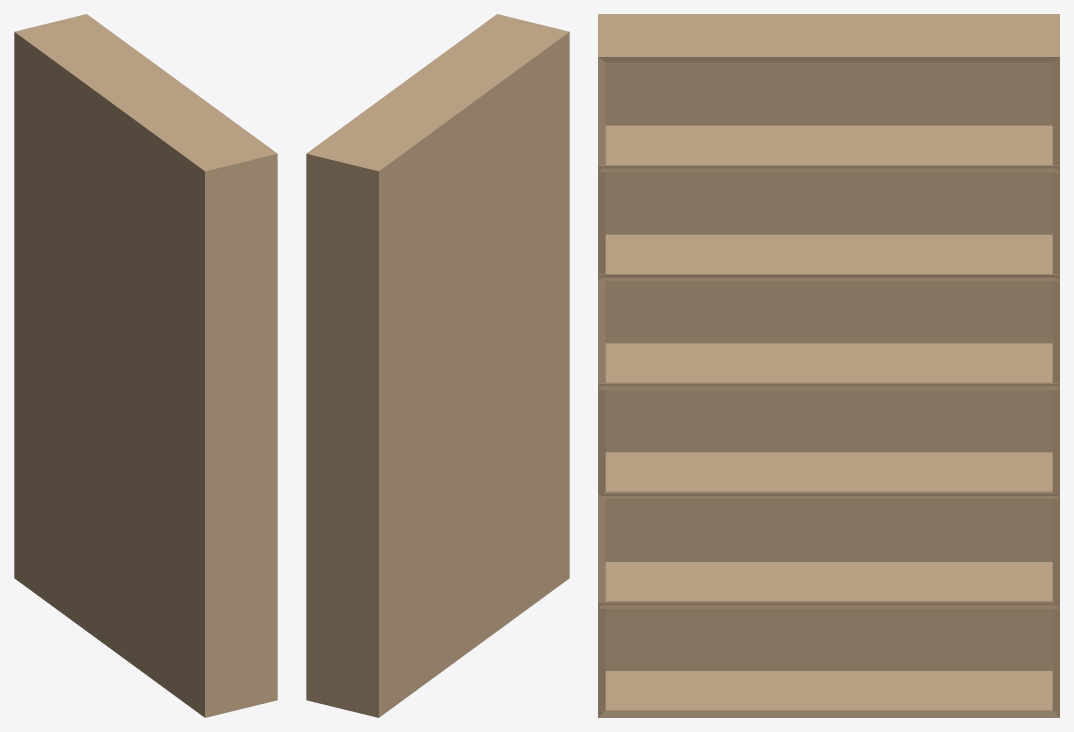
File: bookshelf.glb
3 views of the same model, side by side, from view 1: azimuth 30°, elevation 25°; view 2: azimuth 150°, elevation 25°; view 3: azimuth 270°, elevation 25° (orthographic). The views are drawn at different scales.
Parts seen in each view (by area): view 1: Cube.003; view 2: Cube.003; view 3: Cube.003.
Boxes of the visible parts, x1=… form: Cube.003: x1=14, y1=14, x2=277, y2=717; Cube.003: x1=306, y1=14, x2=569, y2=717; Cube.003: x1=598, y1=14, x2=1059, y2=717.
Bounding box in the file's own units: 1.34 × 9.61 × 6.09.
